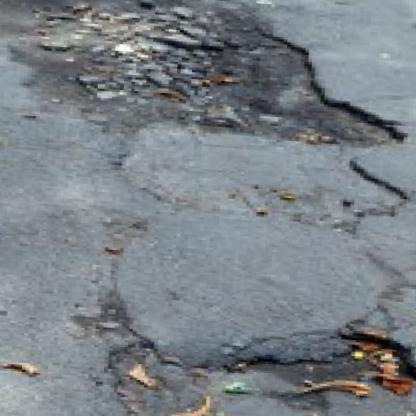pothole: (0, 0, 375, 146), (97, 306, 416, 416)
